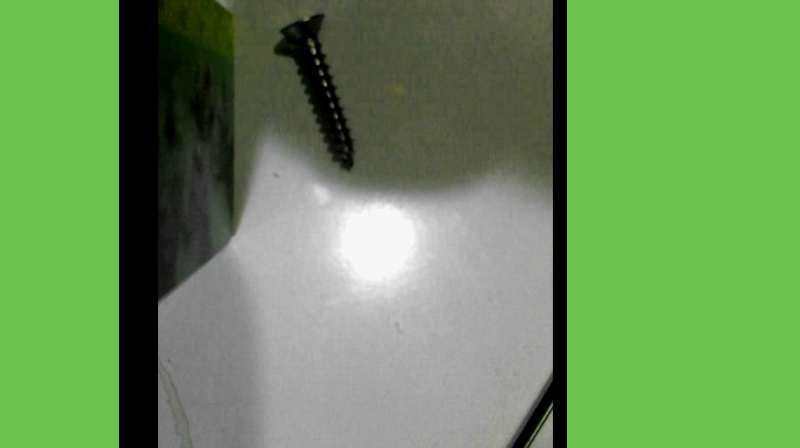S001: (274, 10, 355, 174)
